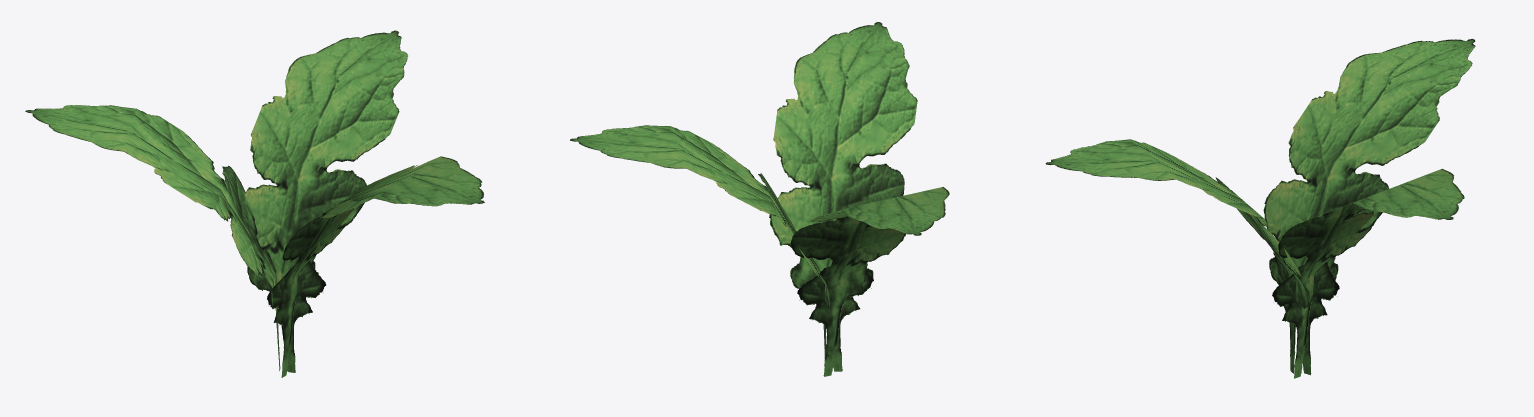
File: Radish.FBX
3 views of the same model, side by side, from view 1: azimuth 30°, elevation 25°; view 2: azimuth 150°, elevation 25°; view 3: azimuth 270°, elevation 25° (orthographic). The views are drawn at different scales.
Visible parts, largest first — view 1: Radish; view 2: Radish; view 3: Radish.
Part boxes in pixels (box(x1,y1,x2,y2)): Radish: box(25, 30, 484, 377); Radish: box(570, 22, 949, 376); Radish: box(1045, 38, 1475, 378).
Bounding box in the file's own units: 71.87 × 39 × 69.4.
